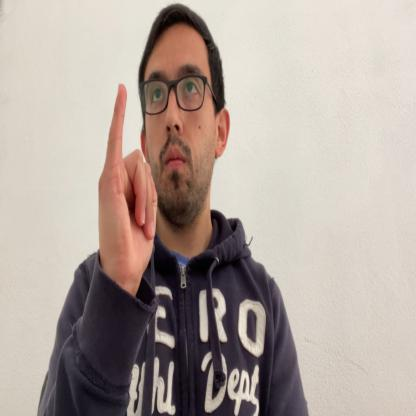I: (96, 80, 158, 292)
